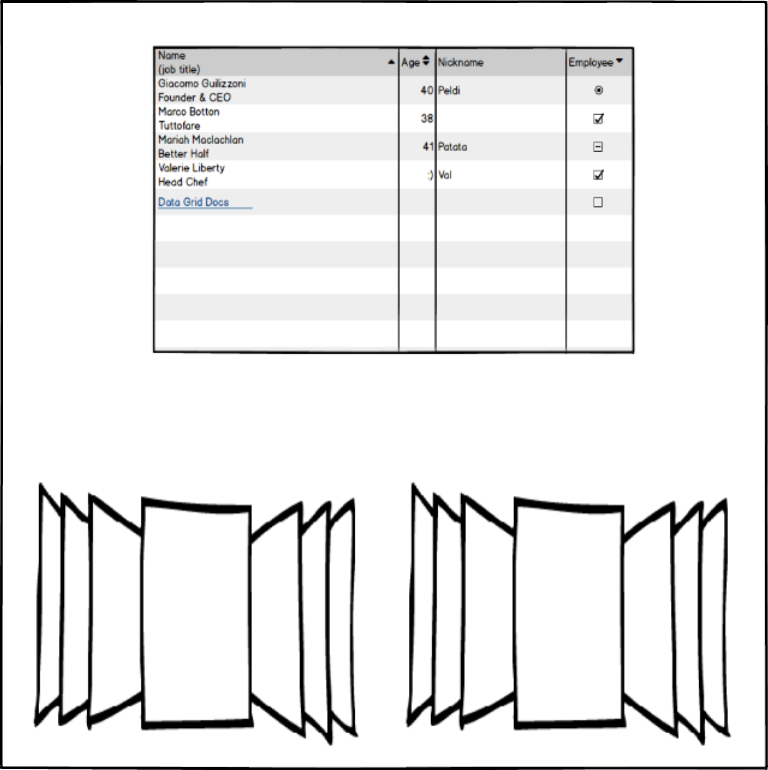slideshow: (395, 475, 738, 754), (20, 474, 365, 751)
table: (138, 37, 647, 362)
